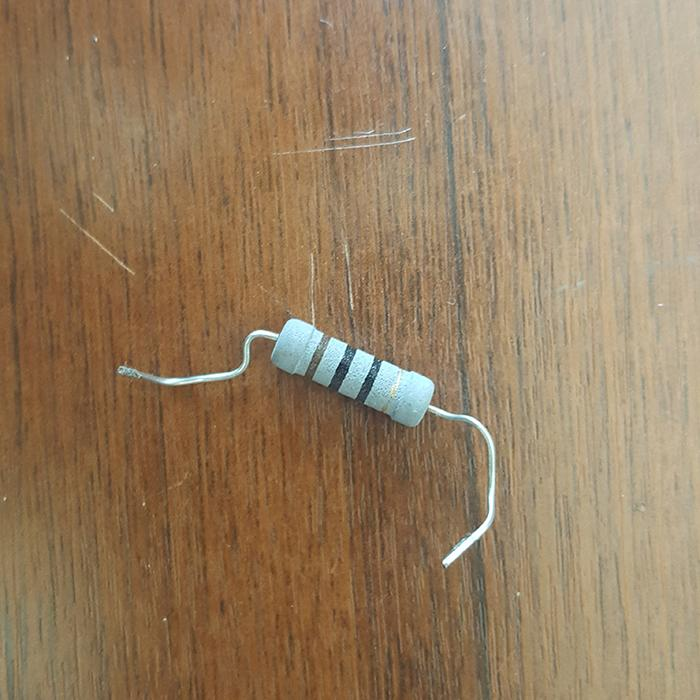resistor: (269, 314, 439, 425)
